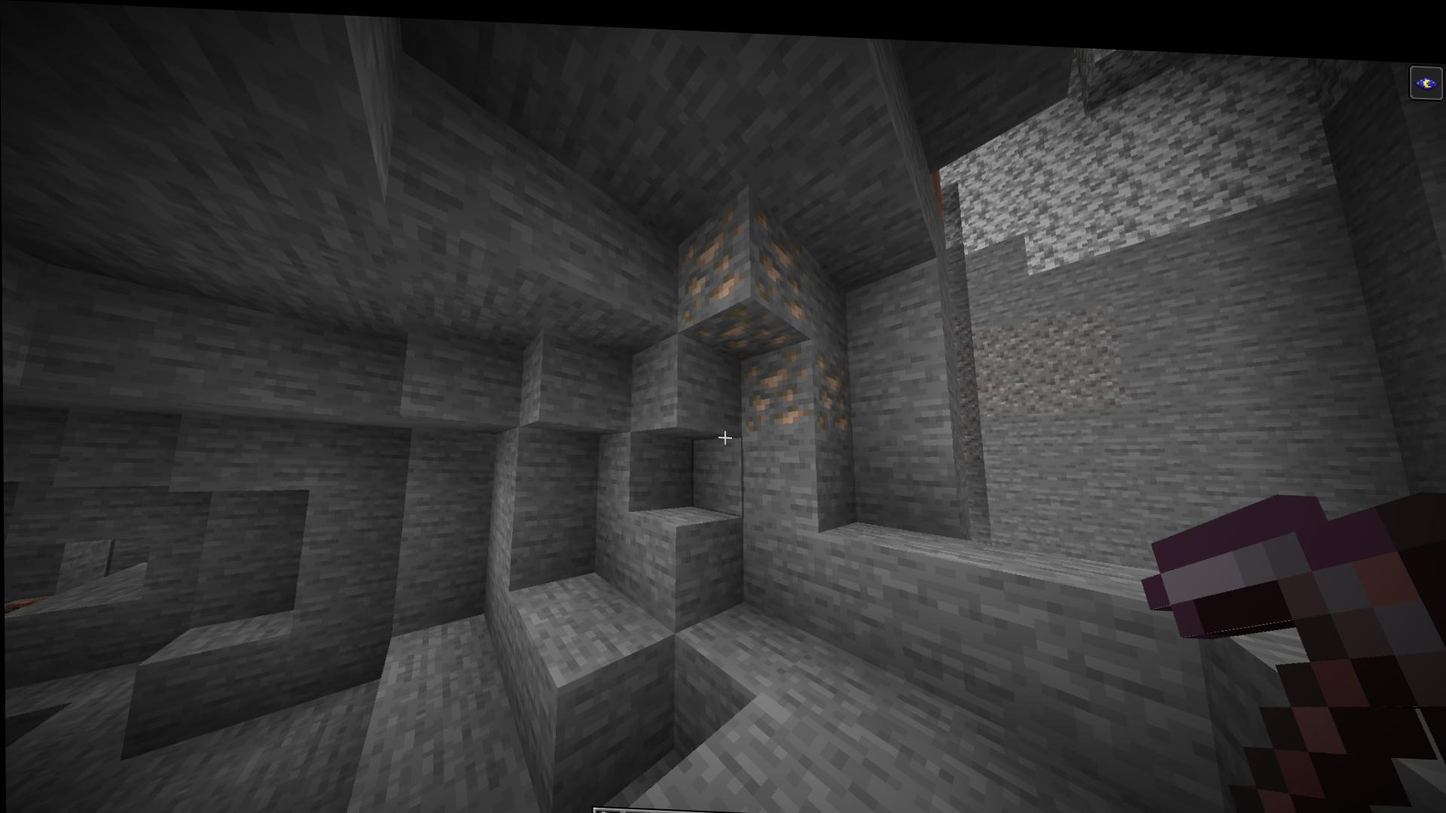iron ore: (680, 194, 805, 356), (735, 342, 808, 420), (803, 341, 848, 431)
